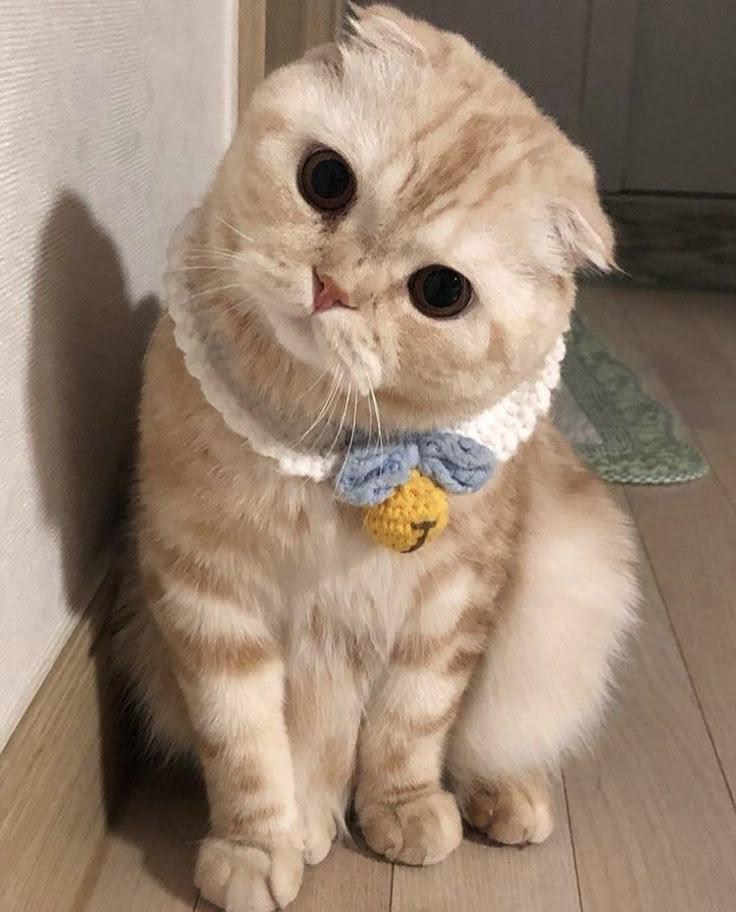kedo: (133, 10, 636, 912)
